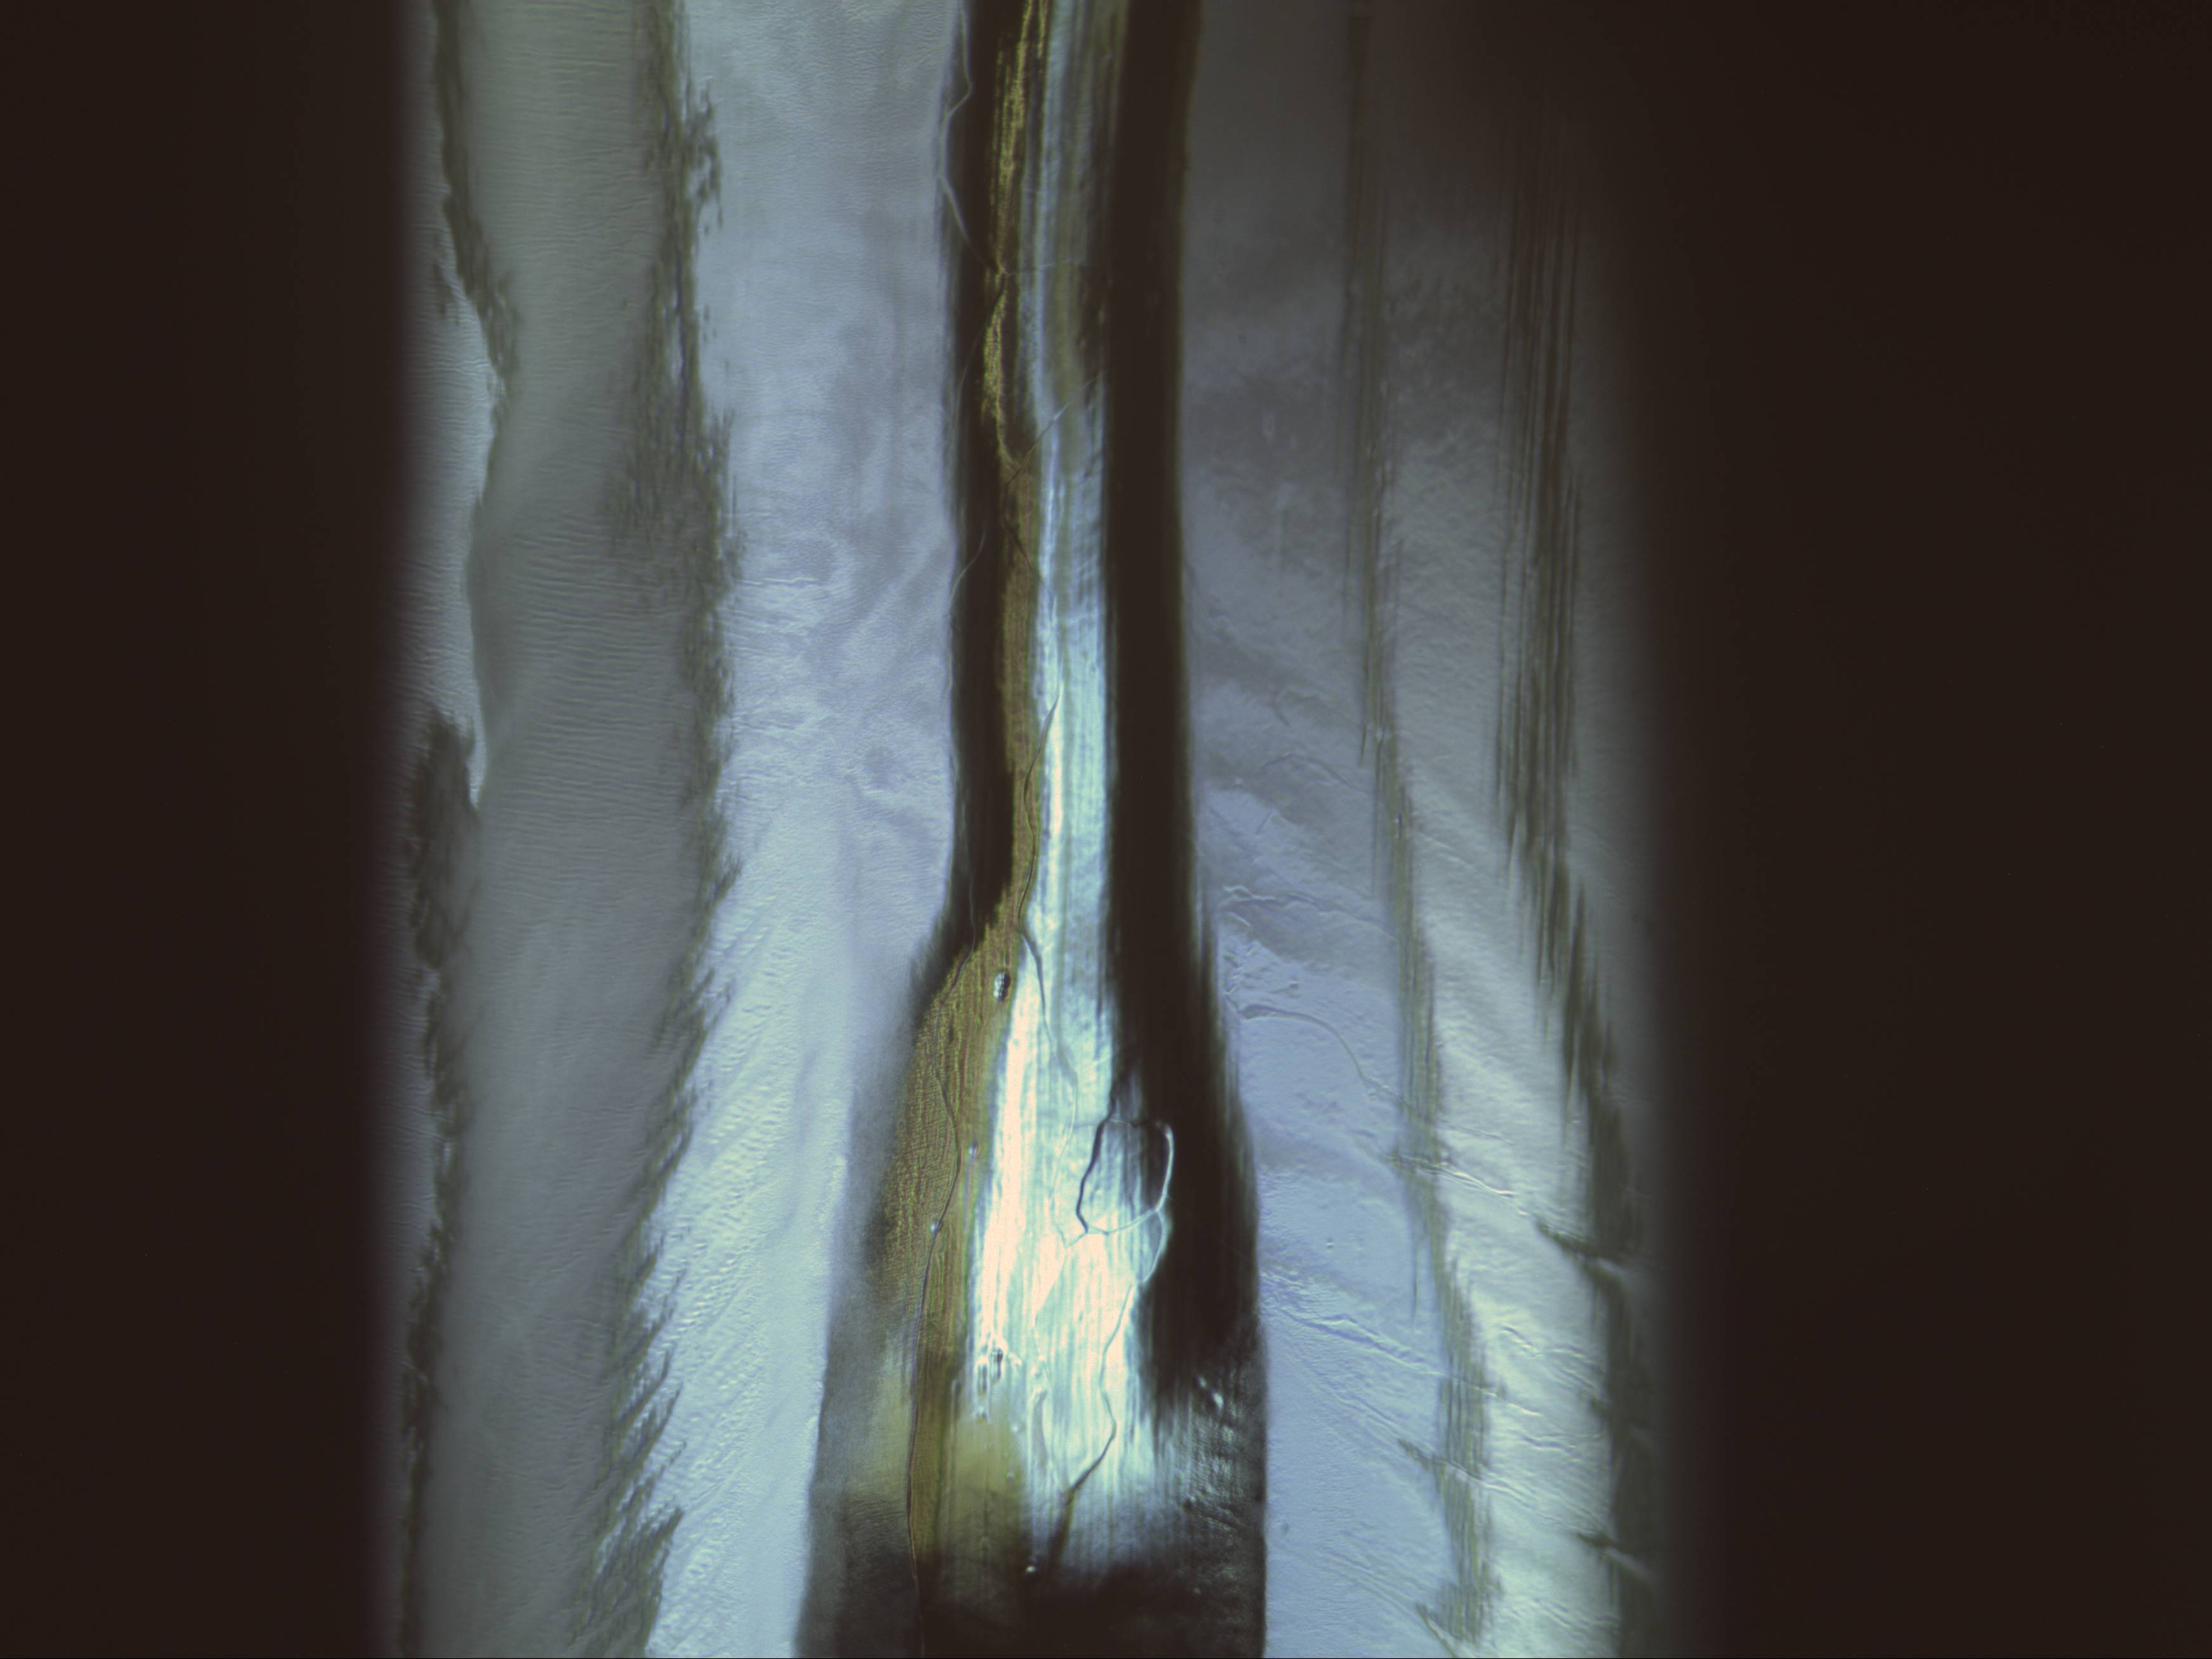defect: (984, 957, 1015, 1007)
